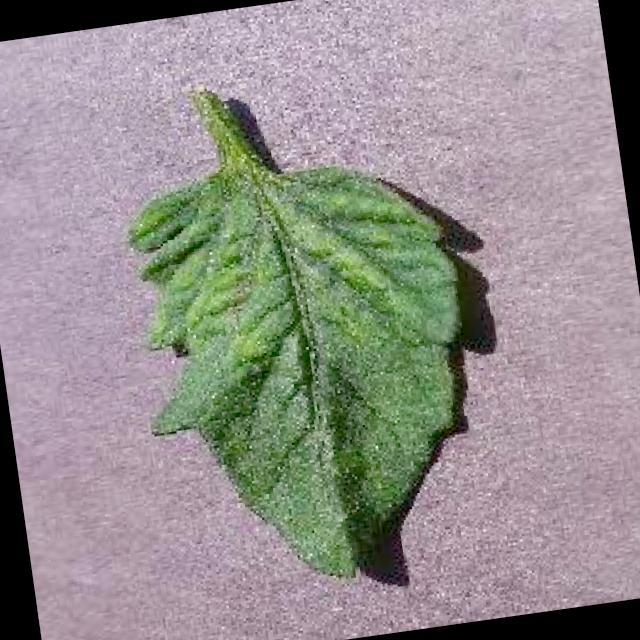Tomato mosaic virus leaf: (118, 140, 499, 610)
